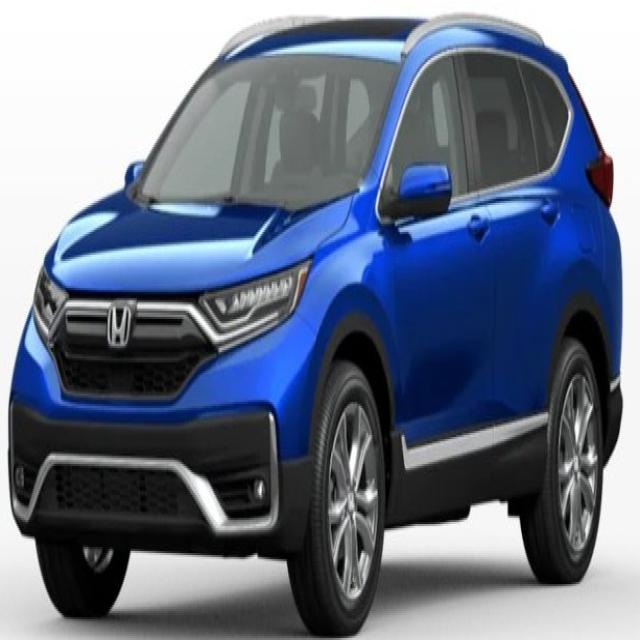blue: (10, 6, 640, 638)
